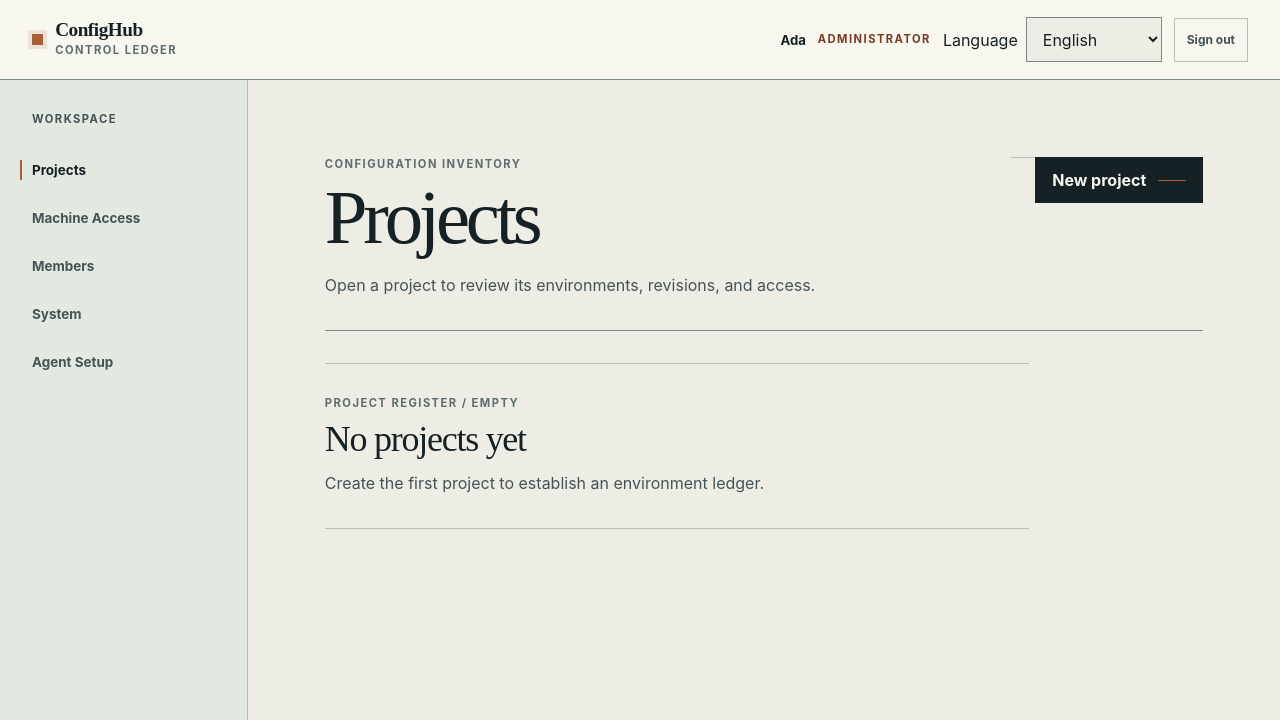
AppShell responsive navigation › retranslates an unconfirmed sign-out recovery message after switching locale
The width and height of the screenshot is (1280, 720).
Expected: the heading "Projects" is shown, [325,176,538,260]
Click the button "Sign out" at [1211, 40], box [1174,18,1248,62]
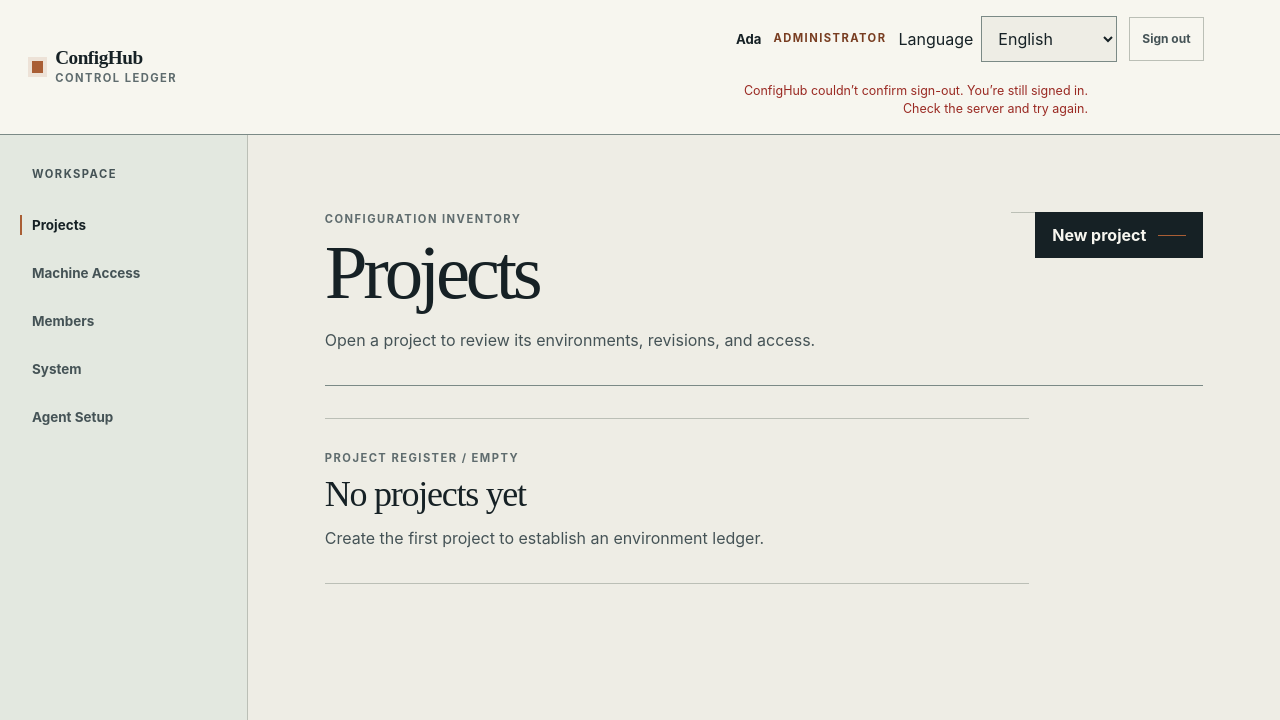
Expected: the message shows "ConfigHub couldn’t confirm sign-out. You’re still signed in. Check the server and try again.", [744,83,1088,116]
Select "简体中文" in the dropdown labelled "Language" at [1049, 39], box [981,16,1117,62]
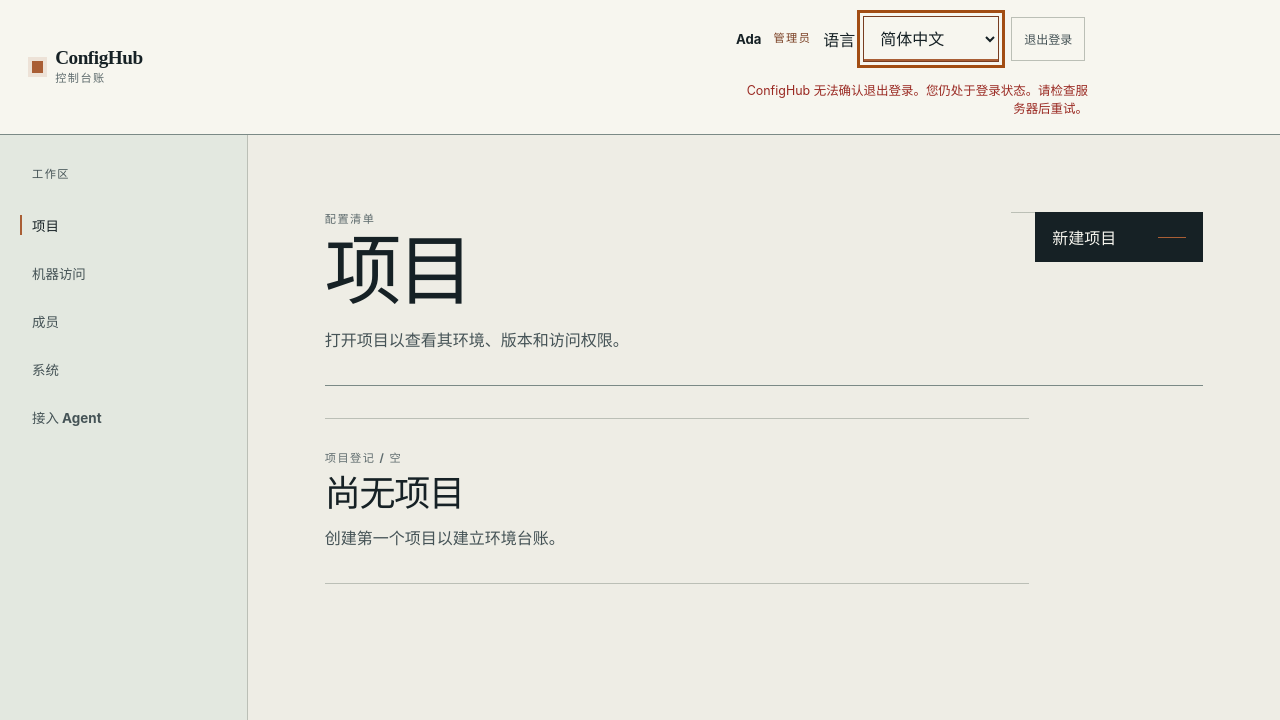
Expected: the message reads "ConfigHub 无法确认退出登录。您仍处于登录状态。请检查服务器后重试。", [747,83,1088,116]
